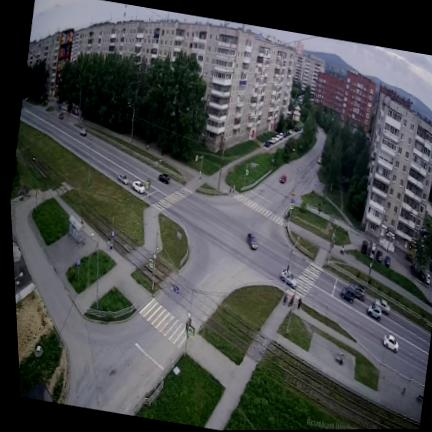bench: (336, 351, 345, 364), (417, 395, 423, 401)
busStop: (69, 216, 85, 246)
busStopSign: (110, 217, 114, 259), (77, 260, 81, 283)
car: (280, 269, 297, 288), (373, 299, 390, 314), (384, 334, 398, 352), (350, 284, 365, 300), (341, 287, 355, 303), (367, 305, 381, 320), (247, 233, 258, 249), (117, 174, 130, 187), (132, 181, 145, 193), (158, 174, 170, 183), (376, 250, 383, 262), (79, 128, 88, 137), (362, 240, 368, 253), (385, 256, 390, 266), (280, 175, 286, 183)
cyclist: (282, 294, 289, 306)
garbageBin: (402, 388, 405, 394)
human: (290, 295, 294, 306), (340, 354, 344, 365), (298, 298, 302, 308), (340, 246, 344, 254), (107, 240, 110, 249), (81, 216, 84, 224), (229, 187, 232, 192), (233, 185, 235, 192), (147, 145, 149, 150)
lightPole: (90, 232, 99, 308), (367, 243, 378, 283), (217, 145, 225, 189), (128, 102, 135, 149), (88, 137, 92, 185)
pedestianCross: (140, 299, 186, 347), (234, 194, 284, 226), (286, 263, 323, 300), (154, 187, 191, 211)
sign: (177, 233, 181, 256), (169, 357, 173, 363)
trafficLight: (284, 241, 297, 290), (146, 160, 160, 203), (184, 312, 194, 354), (150, 247, 158, 290), (285, 193, 295, 226), (328, 233, 335, 264), (195, 155, 203, 181), (244, 165, 248, 187)
truck: (369, 241, 377, 259)
